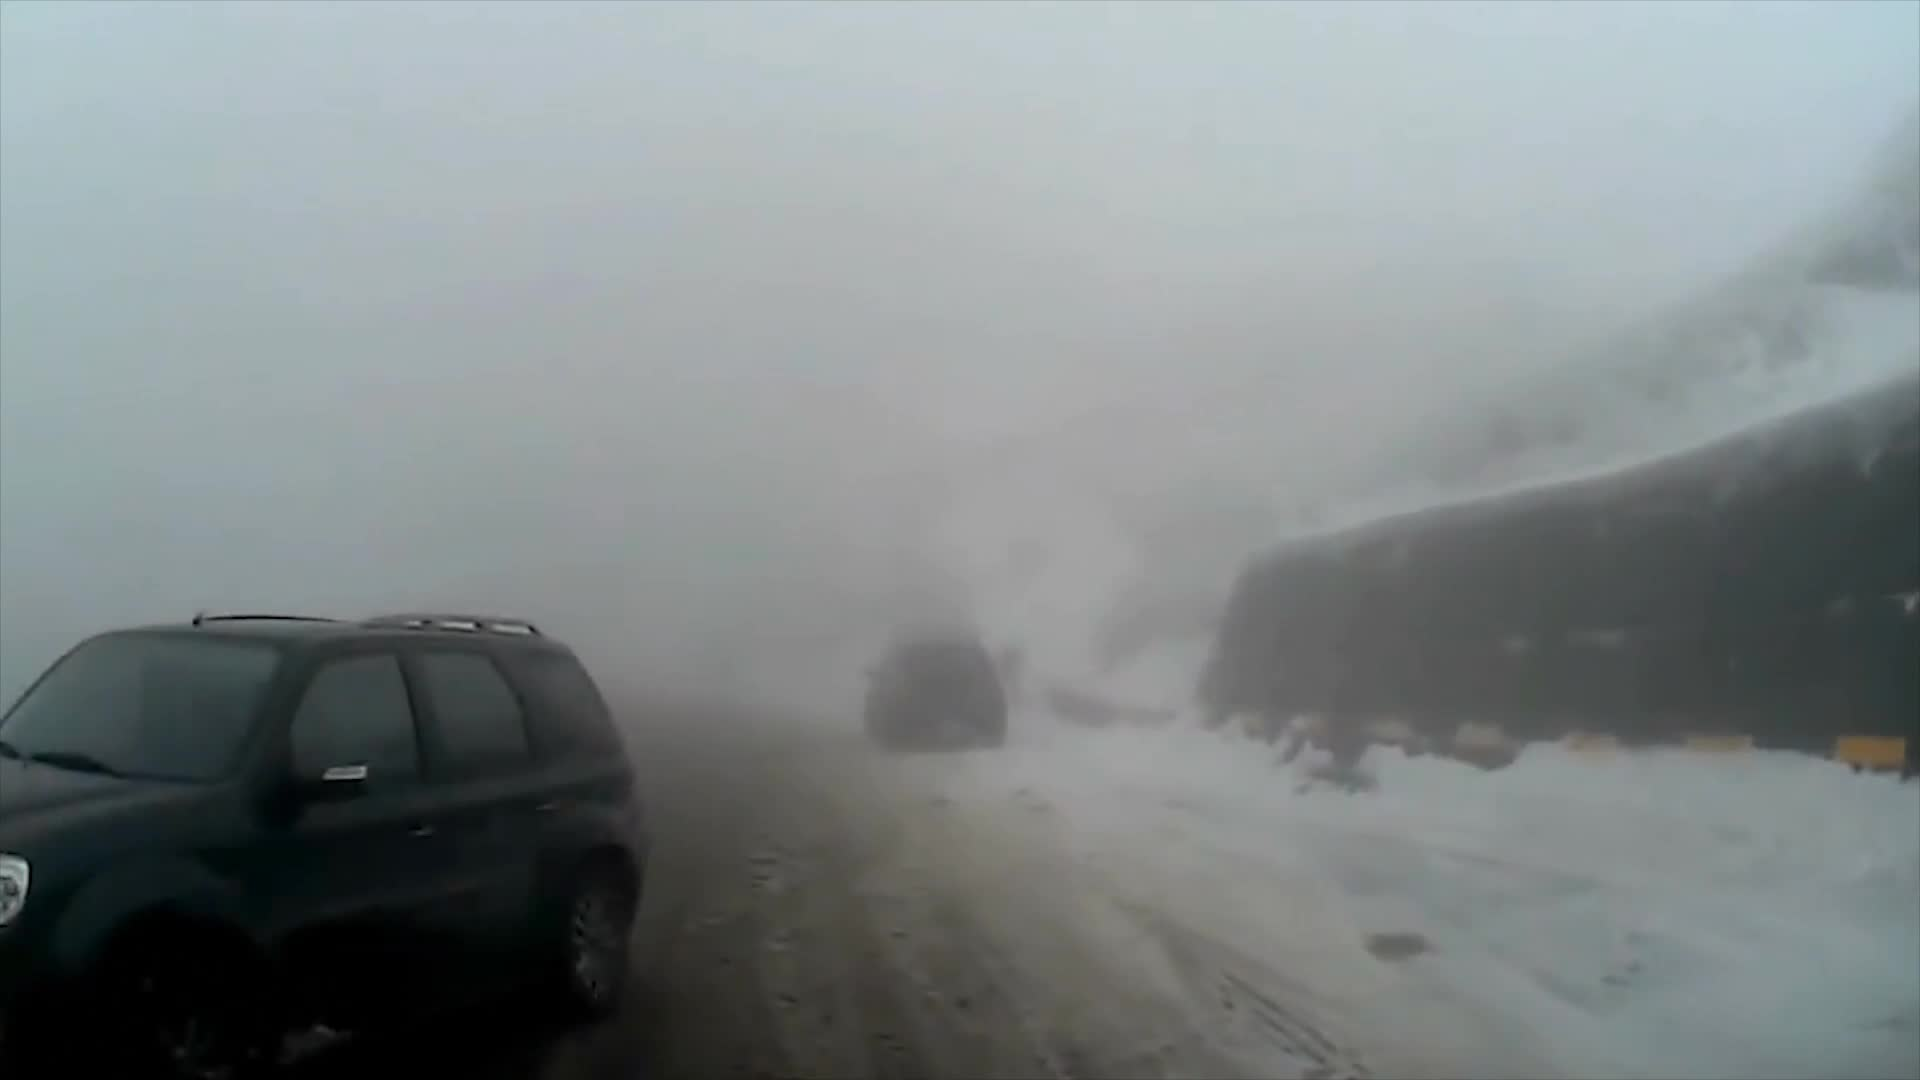vehicle: (0, 605, 649, 1077), (858, 628, 1005, 753)
